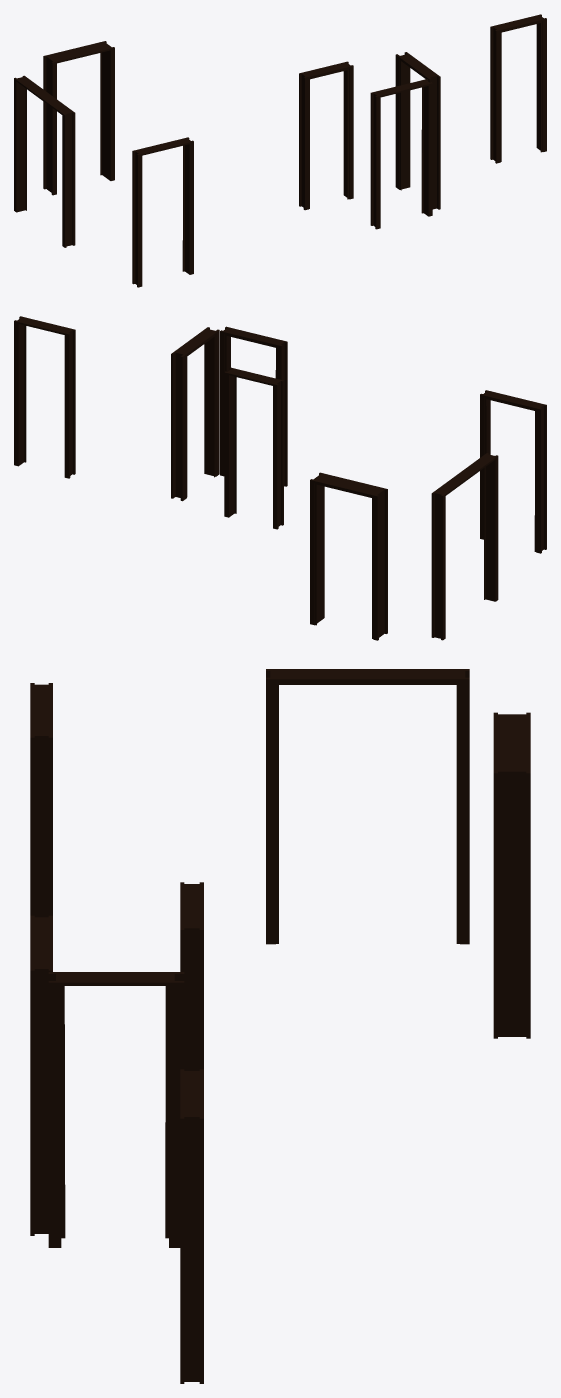
File: moldura_puerta.fbx
3 views of the same model, one above another, from view 1: azimuth 30°, elevation 25°; view 2: azimuth 150°, elevation 25°; view 3: azimuth 270°, elevation 25° (orthographic). The views are drawn at different scales.
Visible parts, largest first — view 1: MarcoPuerta; view 2: MarcoPuerta; view 3: MarcoPuerta.
Part boxes in pixels (<box>): MarcoPuerta: <box>14,14,546,287</box>; MarcoPuerta: <box>14,316,546,640</box>; MarcoPuerta: <box>30,669,530,1383</box>.
Size of the model in its own units: 727 by 200 by 342.
